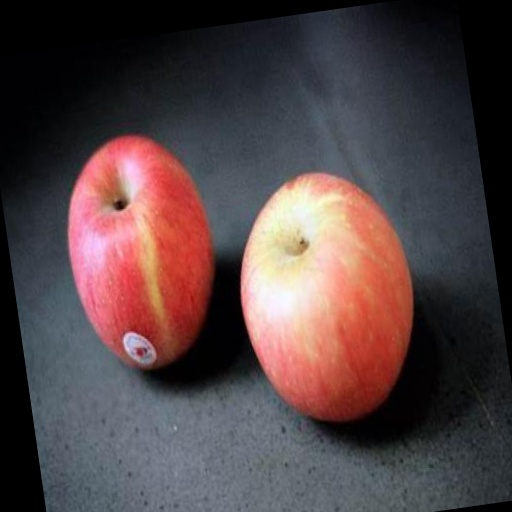fruit: (240, 173, 412, 421), (68, 136, 213, 369)
